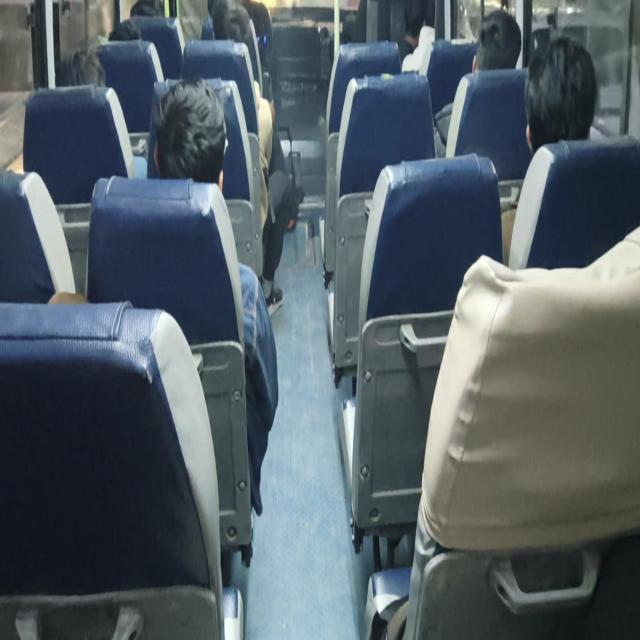person: (152, 94, 232, 180), (522, 77, 596, 160), (45, 48, 111, 100), (477, 2, 523, 66), (210, 3, 260, 48), (406, 4, 450, 54), (104, 20, 163, 52), (126, 3, 180, 37)
